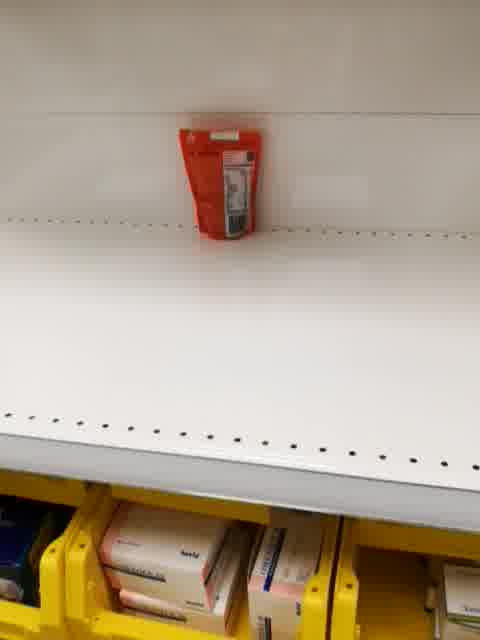whitechia: (175, 124, 265, 244)
